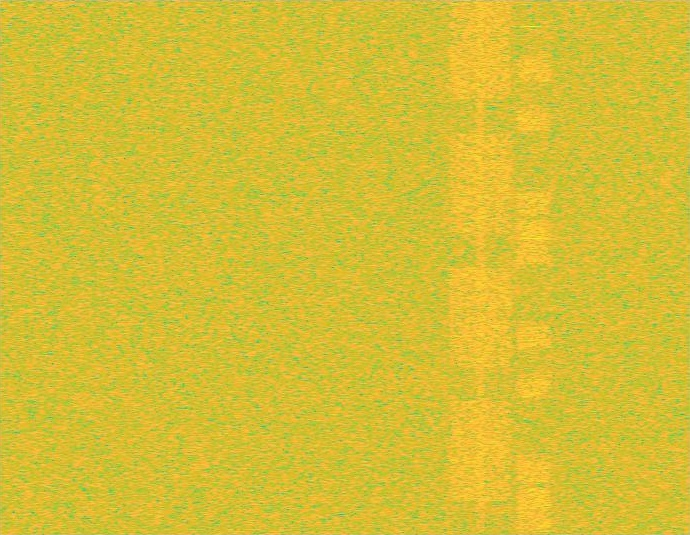5G: (446, 0, 515, 534)
DSSS: (476, 0, 485, 534)
LTE: (517, 0, 551, 534)
Radar: (525, 0, 539, 534)
